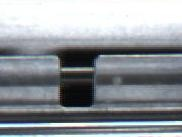oneu: (47, 50, 110, 116)
